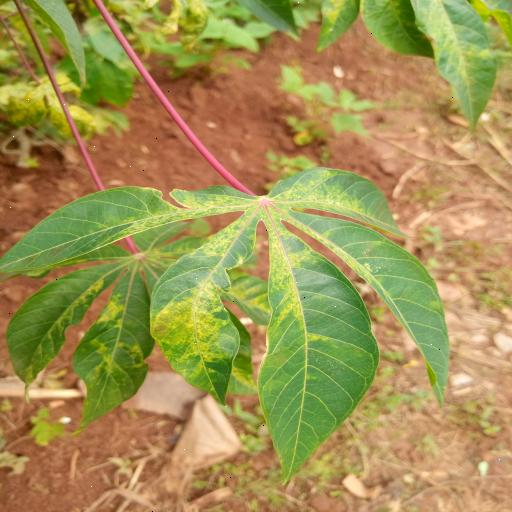Cassava_Mosaic: (5, 161, 434, 496)
